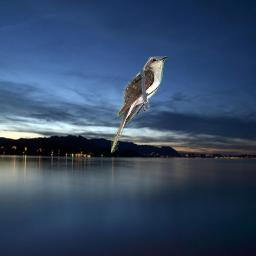Cuckoo: (111, 56, 169, 153)
